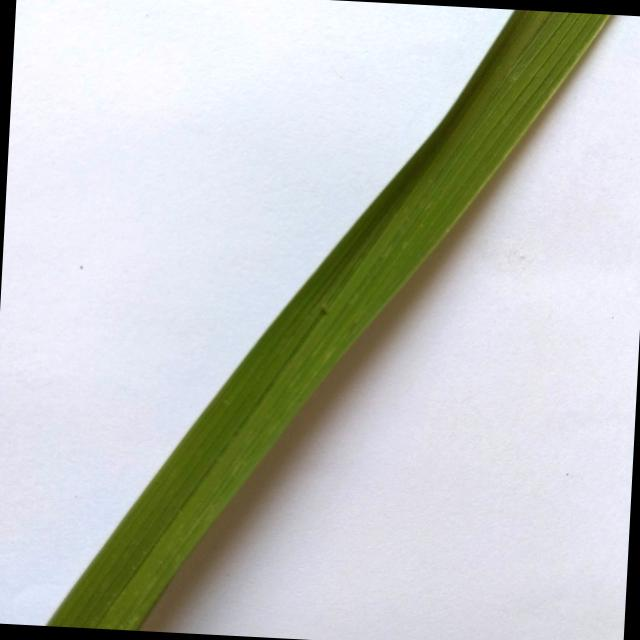Rice_Healthy: (49, 10, 609, 631)
